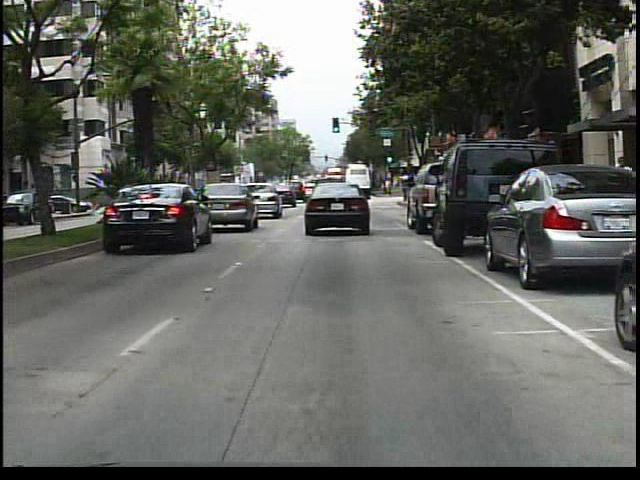person: (608, 153, 638, 226)
